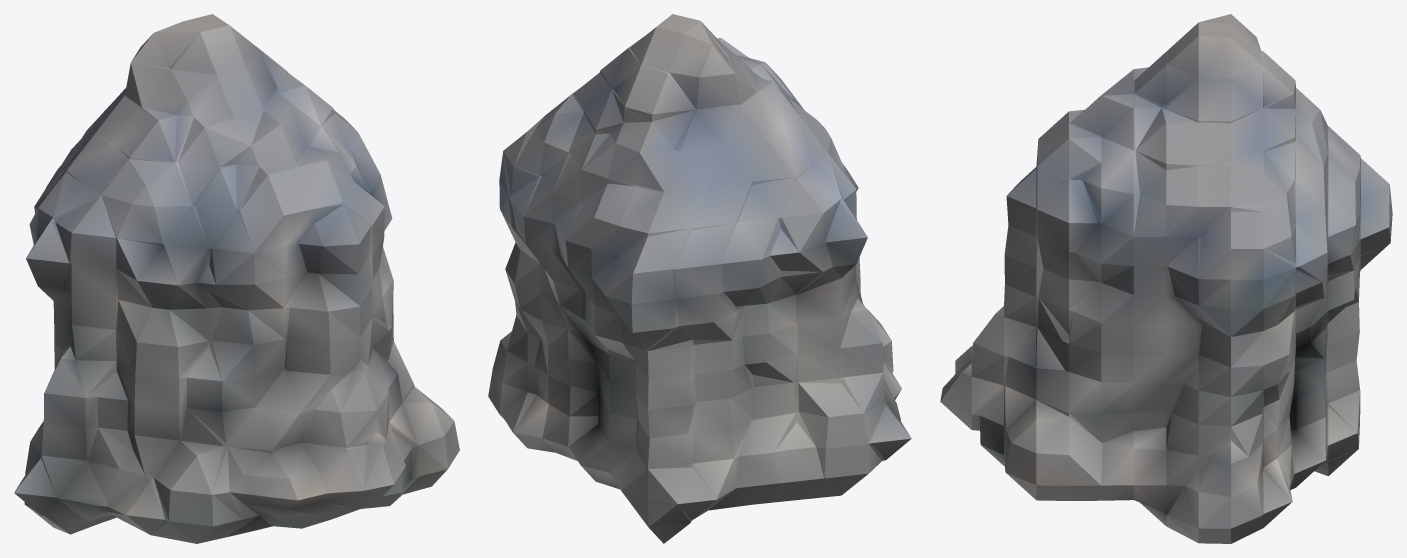
Rendered from stage4t_triposr_shrine_mc32_raw.glb.
3 views of the same model, side by side, from view 1: azimuth 30°, elevation 25°; view 2: azimuth 150°, elevation 25°; view 3: azimuth 270°, elevation 25° (orthographic). The views are drawn at different scales.
Visible parts, largest first — view 1: world; view 2: world; view 3: world.
Boxes of the visible parts, x1,y1,x2,y2 form: world: (14,14,459,543); world: (488,14,911,543); world: (940,14,1392,543).
Bounding box in the file's own units: 0.7797 × 0.8928 × 0.7825.
